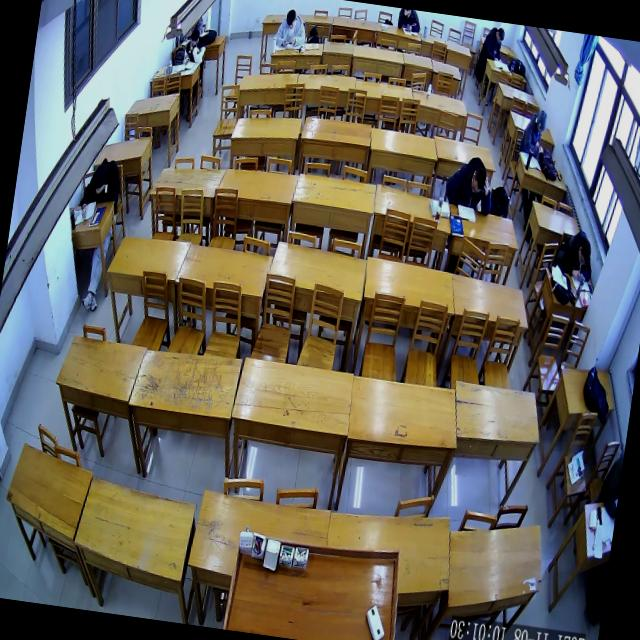bow: (554, 228, 597, 284)
down: (470, 167, 488, 195), (92, 162, 110, 190), (577, 239, 593, 267), (534, 110, 548, 134), (285, 8, 297, 30), (188, 30, 200, 48), (494, 28, 506, 44)
sit: (442, 154, 497, 217), (80, 156, 124, 223), (274, 7, 310, 50), (518, 109, 548, 157), (182, 29, 208, 68), (482, 27, 506, 62)
